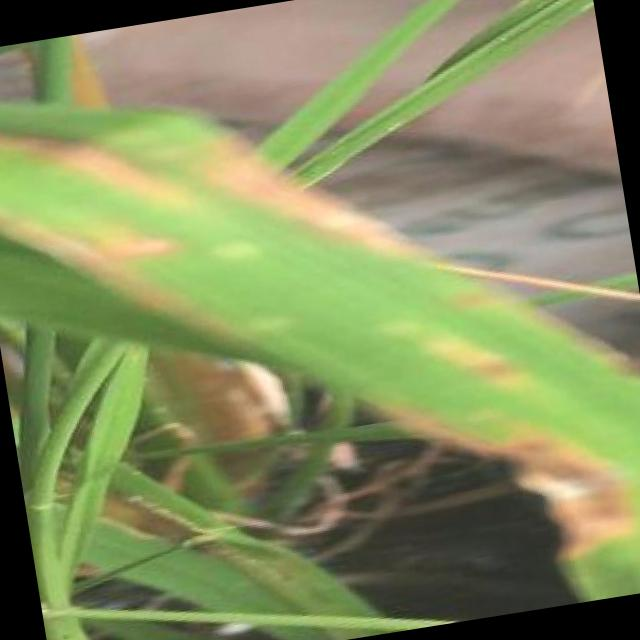Rice_Blast: (184, 88, 420, 290), (478, 402, 634, 568), (80, 208, 185, 278)
